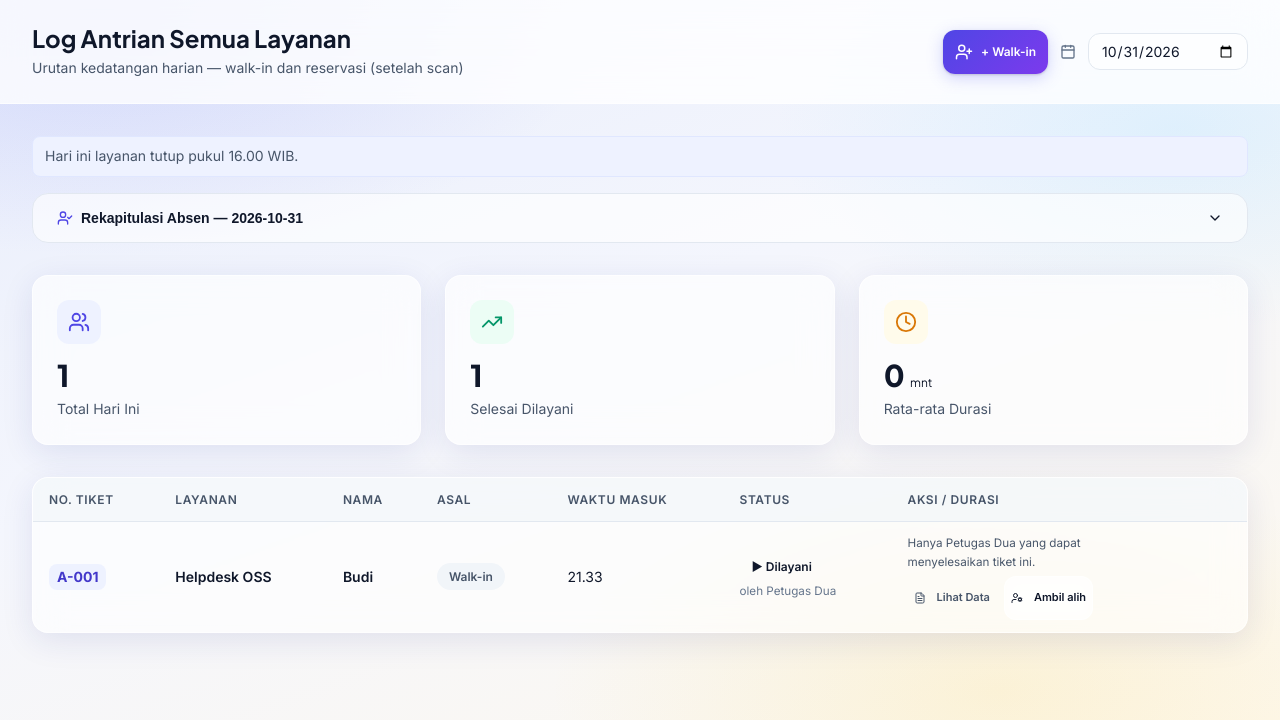
Admin antrian: Ambil alih (Admin, rpc admin_ambil_alih) › galat dari RPC ditampilkan di dialog (role=alert), dialog tetap terbuka
Click the button "Ambil alih": (1048, 598) [1004, 576, 1093, 620]
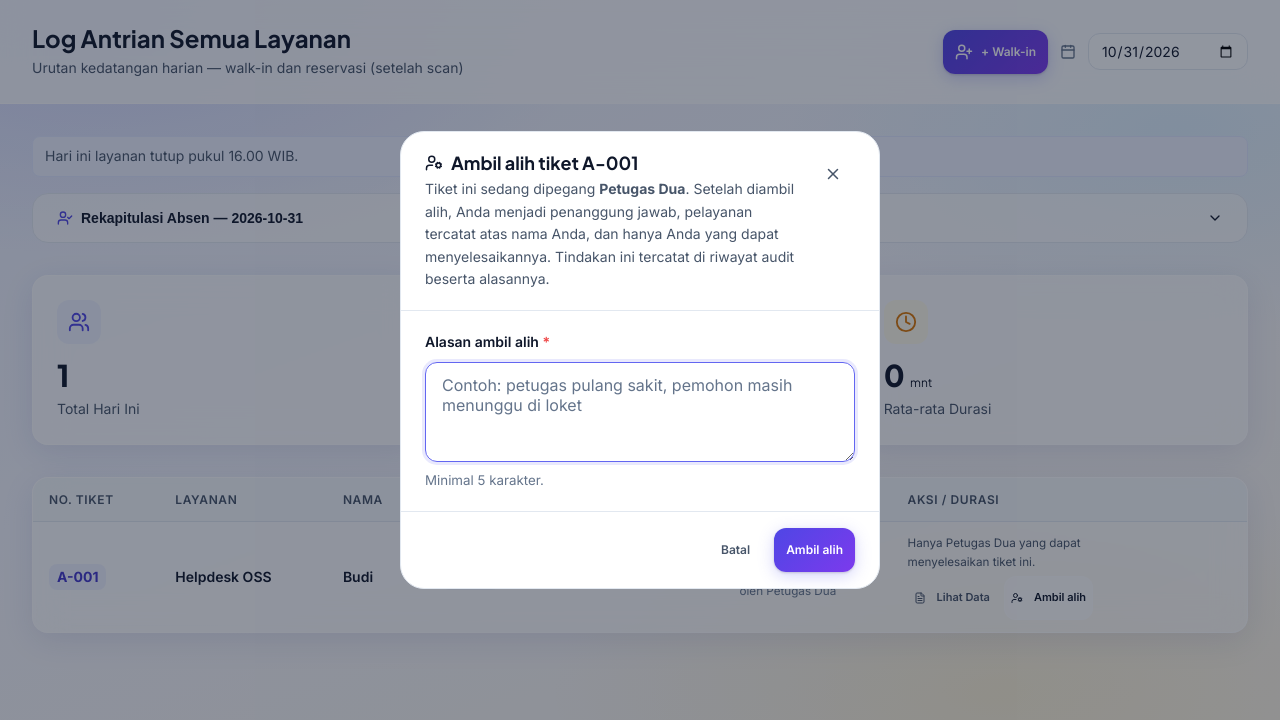
Replace the text in the text box labelled "Alasan ambil alih" with "pemilik tidak di tempat": (640, 412) [425, 362, 855, 462]
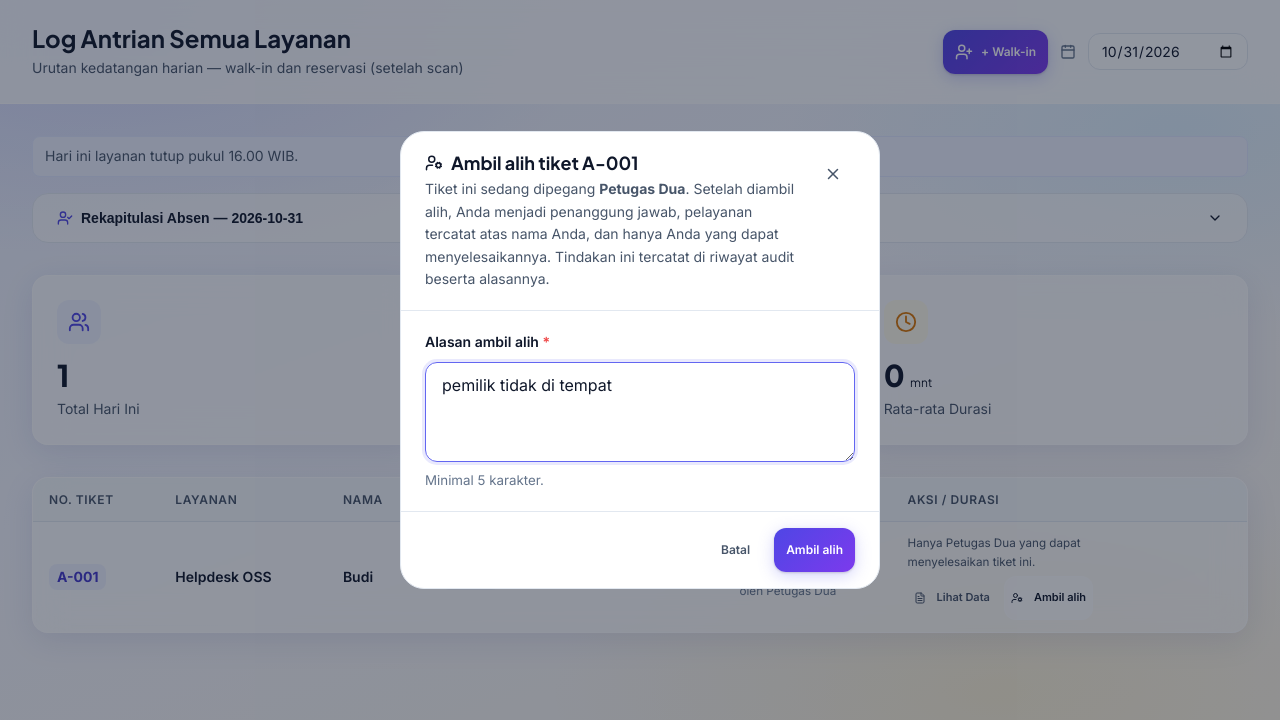
Click the button "Ambil alih": (815, 550) [774, 528, 855, 572]
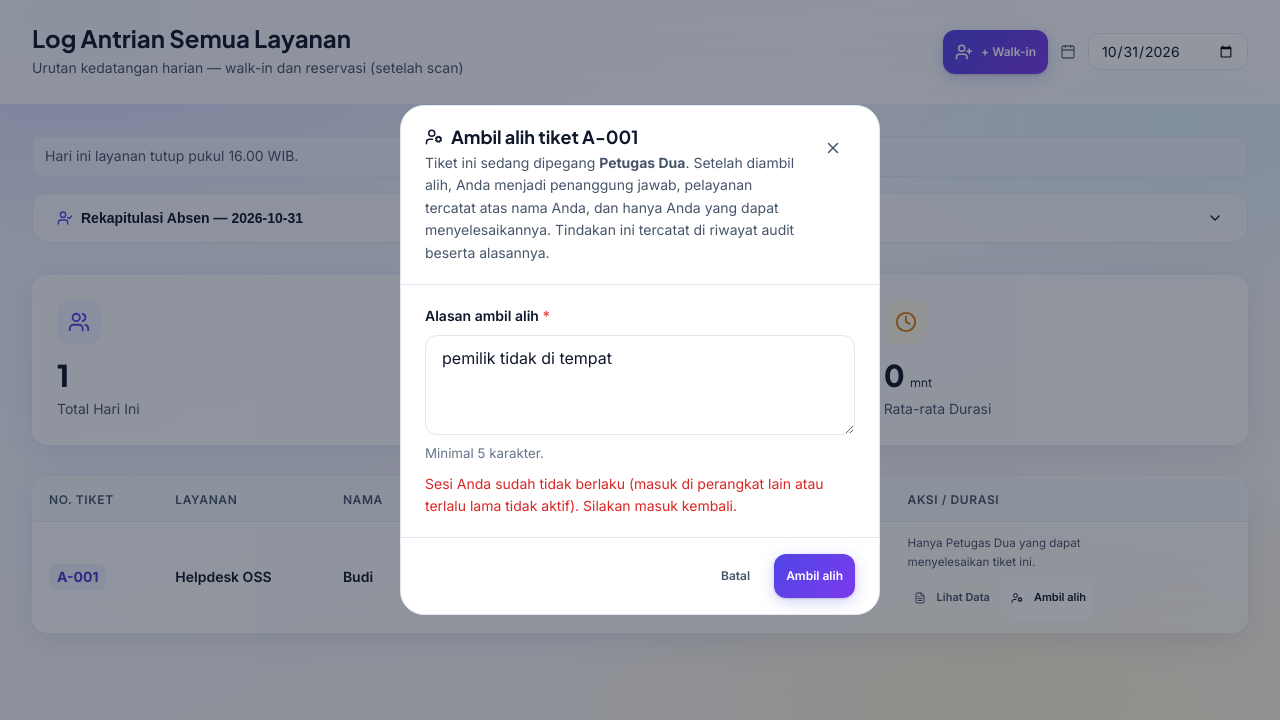
Expected: the dialog is shown
Expected: the message shows "Sesi Anda sudah tidak berlaku", [425, 475, 824, 514]
